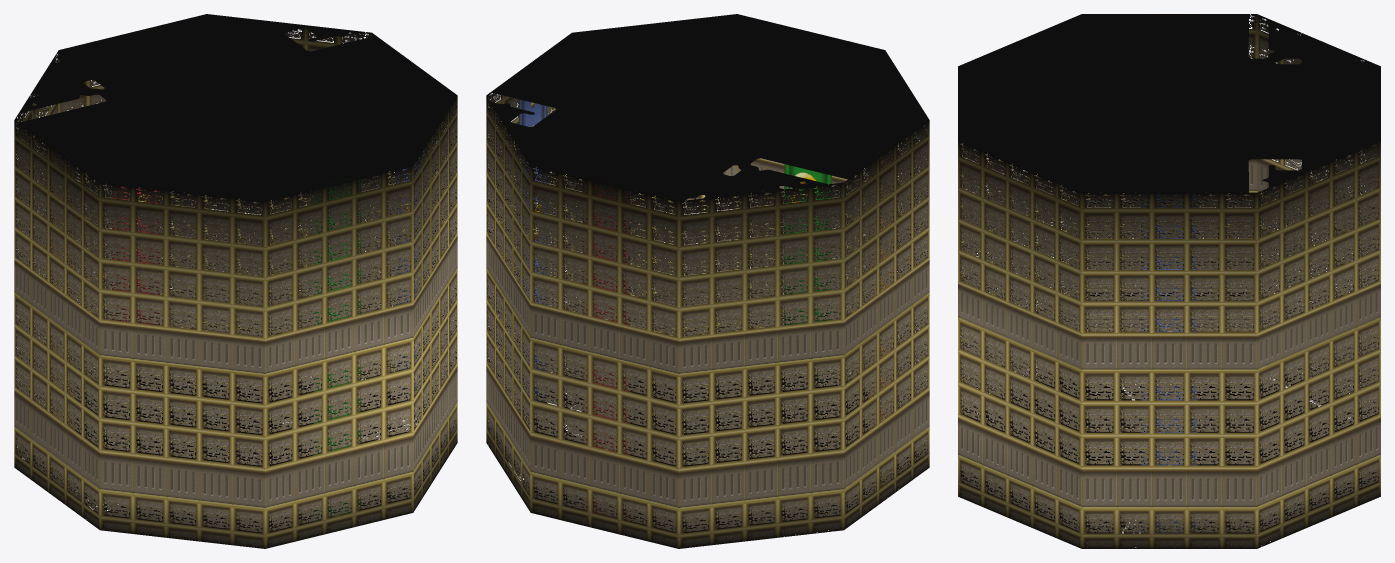
Rendered from clock_course_V.glb.
The picture shows the model from 3 angles, left to right: view 1: azimuth 30°, elevation 25°; view 2: azimuth 150°, elevation 25°; view 3: azimuth 270°, elevation 25°; orthographic projection. The views are drawn at different scales.
Visible parts, largest first — view 1: clock_course_V; view 2: clock_course_V; view 3: clock_course_V.
Part boxes in pixels (x1,y1,x2,y2): clock_course_V: (14, 14, 457, 548); clock_course_V: (486, 14, 929, 548); clock_course_V: (958, 14, 1380, 548).
Bounding box in the file's own units: 869 × 811 × 869.
4 materials, 4 textured.
